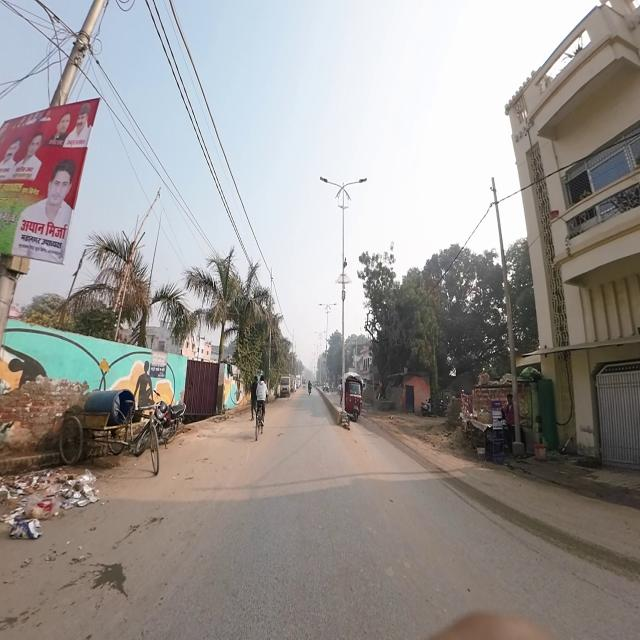Garbage: (5, 465, 98, 539)
